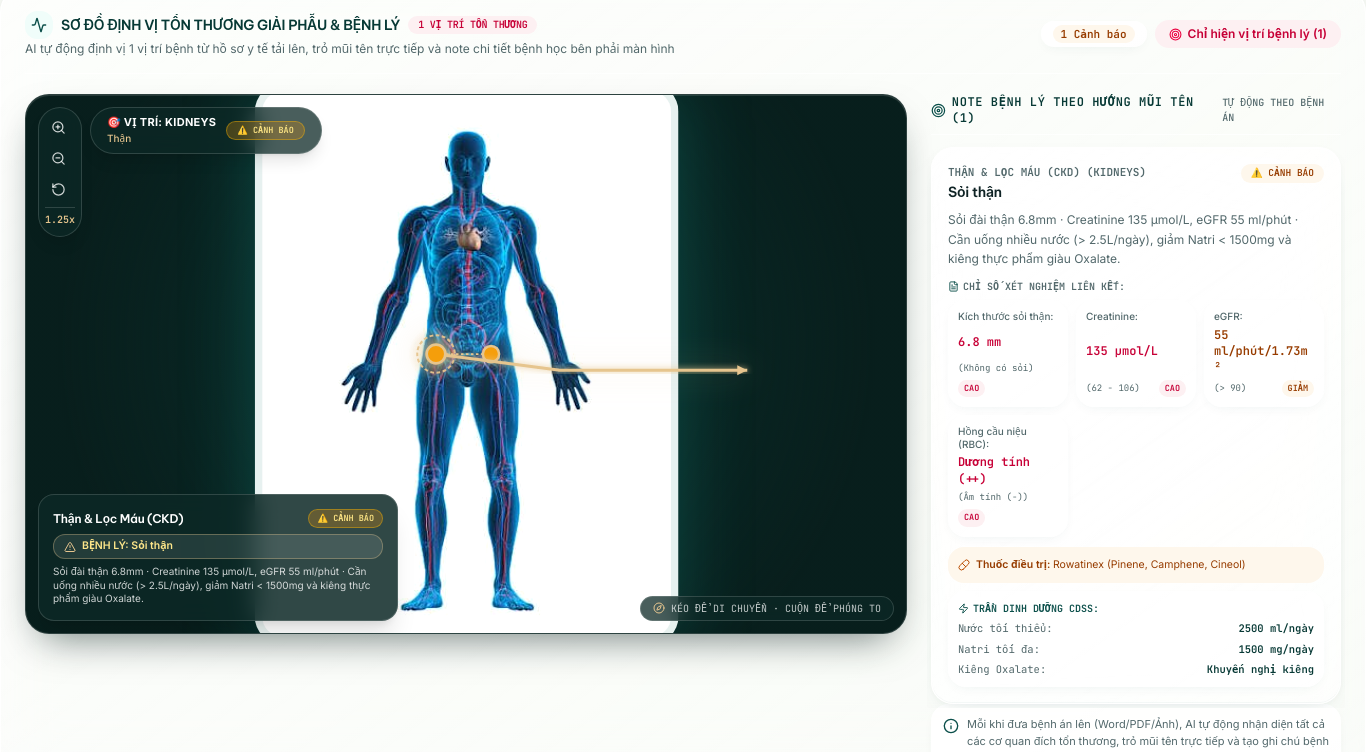
Test case: AnatomyVisualizer and System-Wide Synchronization › renders ONLY diseased organs (kidneys) by default and shows animated pointer & lab metrics
Expected: the heading "Thận & Lọc Máu (CKD)" is shown, [53,511,183,527]
Expected: the text "Hệ Tim Mạch & Đông Máu" is not shown
Step 1. Click the button titled "Chuyển đổi giữa chế độ chỉ hiển thị cơ quan bị bệnh" → (1248, 34), box [1154,20,1341,48]
(page scrolled)
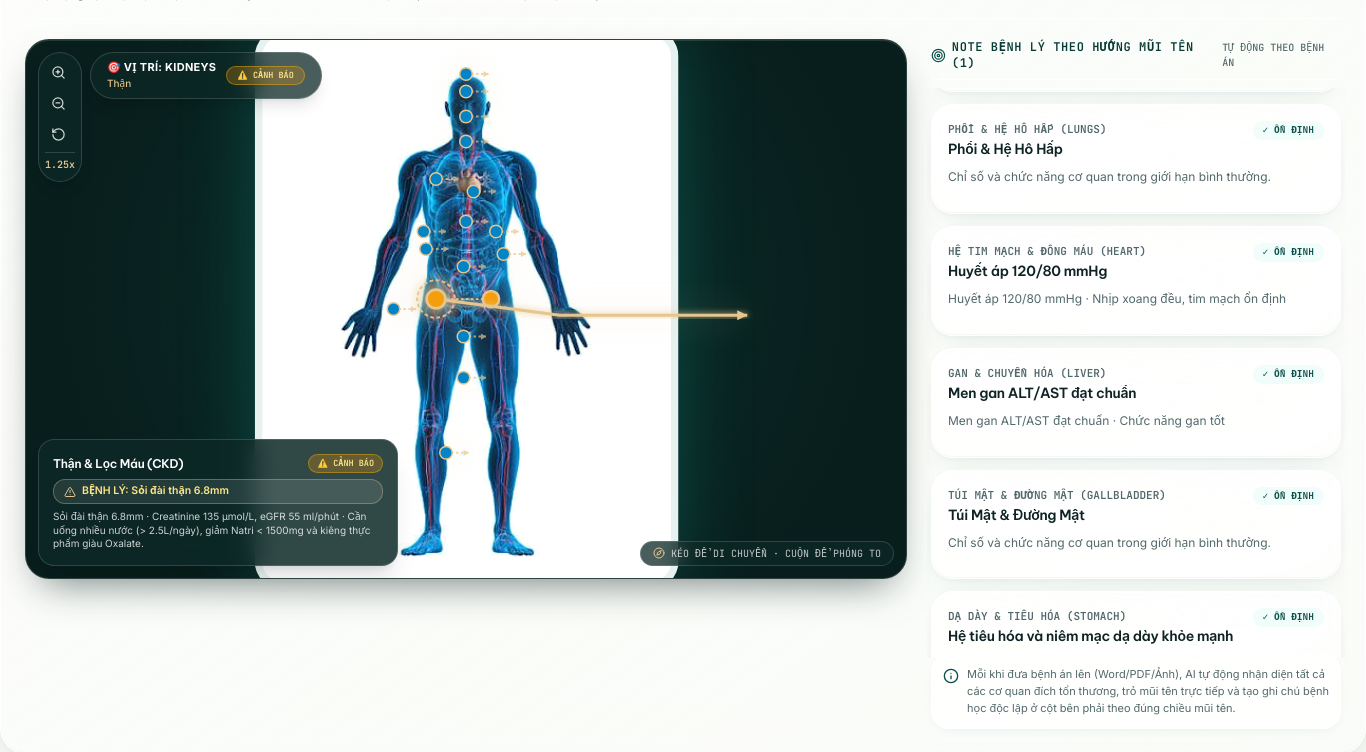
Result: the text "Hệ Tim Mạch & Đông Máu (Heart)" is shown at [948,244,1146,258]
Result: the text "Gan & Chuyển Hóa (Liver)" is shown at [948,366,1106,380]
